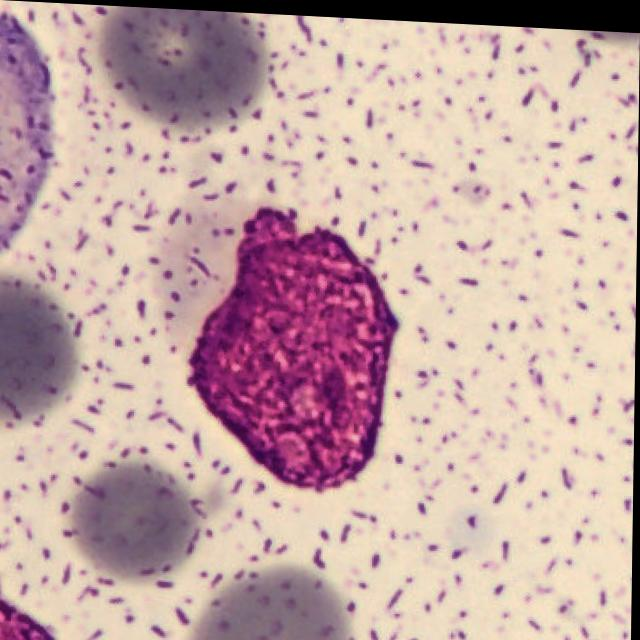Restos celulares: (188, 202, 402, 487)
